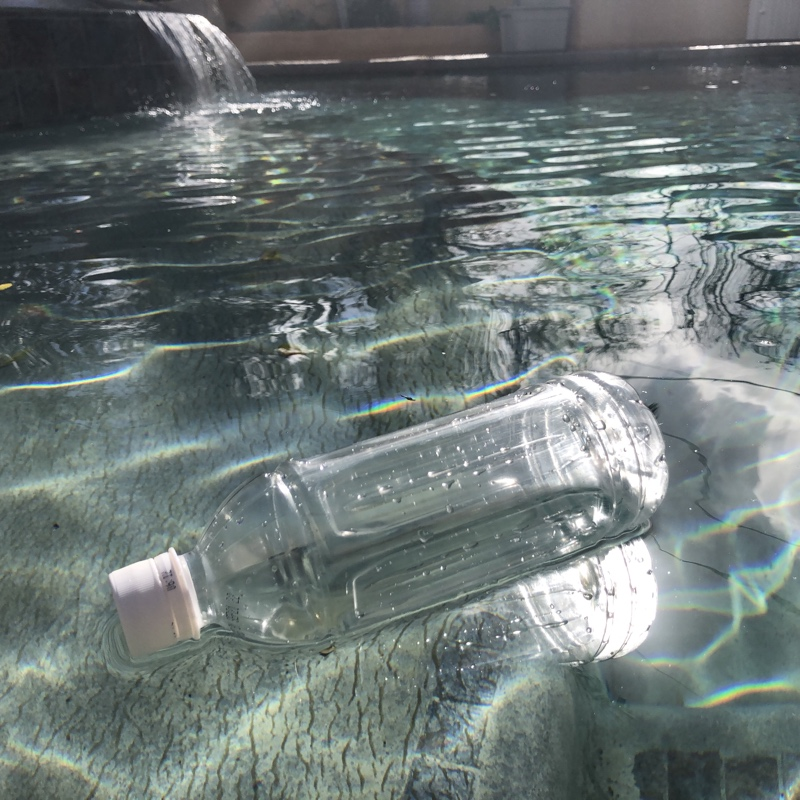Plastic Bottle: (101, 366, 675, 671)
